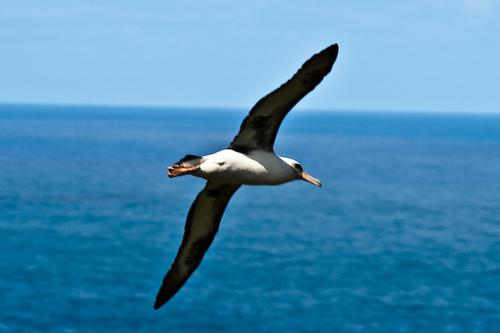002.Laysan_Albatross: (151, 43, 340, 310)
